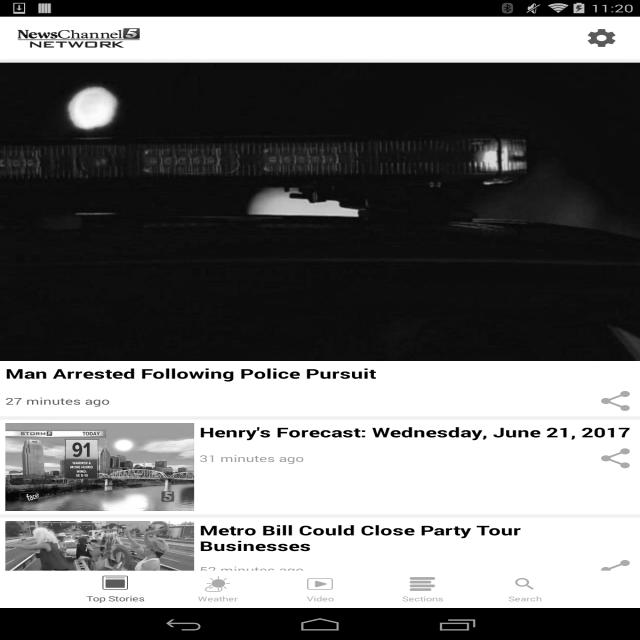ImageButton: (596, 446, 635, 471), (596, 389, 635, 413), (596, 558, 635, 582)
ImageView: (0, 63, 640, 361), (5, 423, 194, 511), (5, 521, 194, 609), (17, 27, 140, 49), (102, 574, 128, 590), (307, 576, 333, 592), (512, 576, 538, 592), (205, 576, 230, 592), (410, 576, 435, 592)
TextView: (200, 521, 634, 555), (5, 364, 635, 382), (200, 423, 630, 443), (6, 395, 596, 407), (572, 22, 631, 54), (199, 452, 304, 465), (199, 564, 304, 576), (64, 594, 166, 604), (166, 594, 269, 603), (371, 594, 474, 603), (269, 594, 371, 603), (474, 594, 576, 603)
